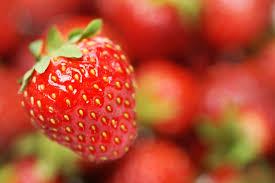strawberry: (20, 19, 138, 163)
